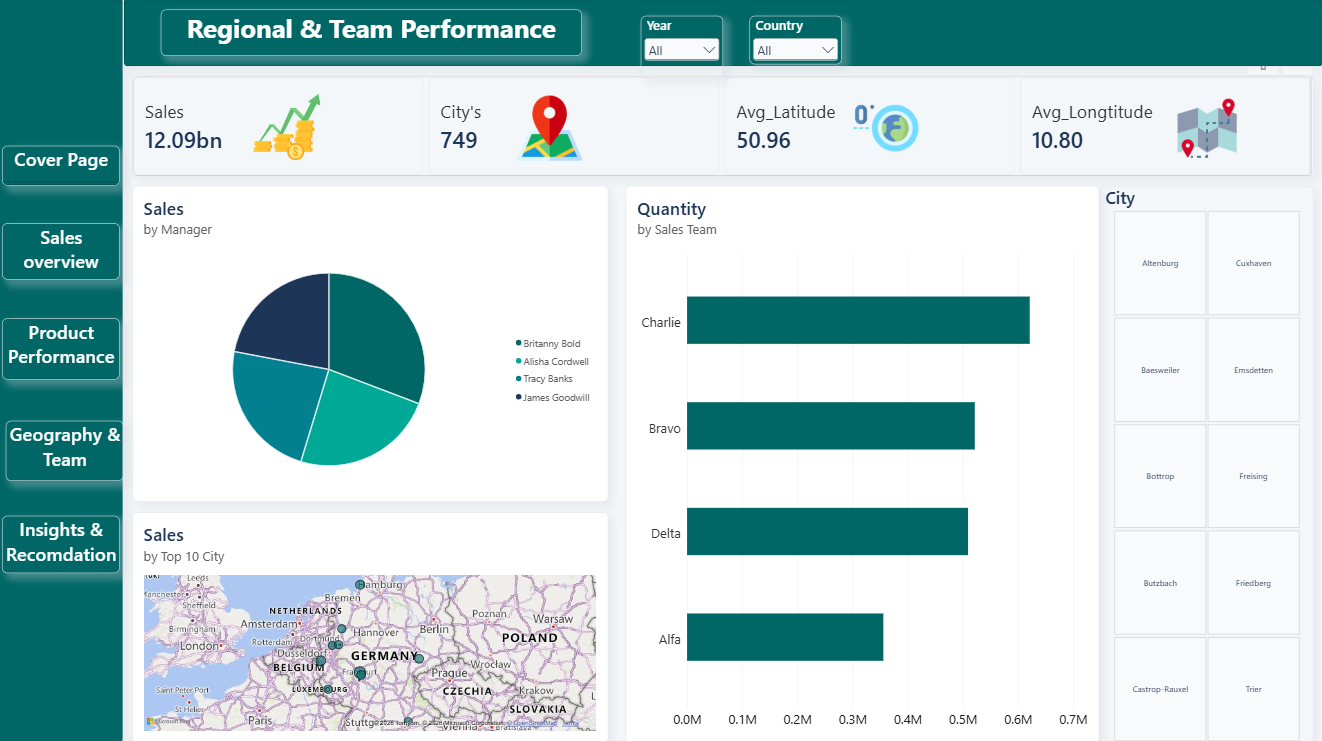

The dashboard page shown, as its layout file describes it:
{"tool":"powerbi","page":{"name":"Geography & Team","canvas":[1920,1080],"ordinal":3},"visuals":[{"type":"cardVisual","fields":{"Data":["pharma-data.total_sales","pharma-data.cityy","pharma-data.avg_latitude","pharma-data.avg_longtitude"]},"box":[195.4,114,1710.1,146.6],"z":0},{"type":"pieChart","fields":{"Category":["pharma-data.Manager"],"Y":["pharma-data.total_sales"]},"box":[195.4,273.3,689.5,457.8],"z":1000},{"type":"map","title":"Sales ","fields":{"Category":["pharma-data.City"],"Size":["Sum(pharma-data.Sales)"]},"box":[195.4,745.6,689.5,334.8],"z":2000},{"type":"shape","box":[0,0,183.2,1080.6],"z":3000},{"type":"clusteredBarChart","fields":{"Category":["pharma-data.Sales Team"],"Y":["pharma-data.total_quantity"]},"box":[910.3,273.3,685.9,807.1],"z":4000},{"type":"shape","box":[182.7,0,1737.3,101.3],"z":5000},{"type":"slicer","fields":{"Values":["pharma-data.Year"]},"box":[932,27.1,119.4,90.5],"z":6000},{"type":"slicer","fields":{"Values":["pharma-data.Country"]},"box":[1089.4,27.1,133.9,70.6],"z":7000},{"type":"textbox","box":[237.1,18.1,609.9,67],"z":8000},{"type":"slicer","fields":{"Values":["pharma-data.City"]},"box":[1596.1,273.3,309.5,807.1],"z":9000},{"type":"image","box":[367.4,133.9,105,108.6],"z":10000},{"type":"image","box":[752.8,133.9,94.1,112.2],"z":11000},{"type":"image","box":[1239.6,133.9,94.1,112.2],"z":12000},{"type":"image","box":[1704.7,133.9,94.1,112.2],"z":13000},{"type":"shape","title":"Cover Page","box":[7.2,215.3,170.1,57.9],"z":14000},{"type":"shape","title":"Sales overview","box":[7.2,327.5,170.1,81.4],"z":15000},{"type":"shape","title":"Product Performance","box":[7.2,465.1,170.1,88.7],"z":16000},{"type":"shape","title":"Geography & Team","box":[12.7,613.5,170.1,86.9],"z":17000},{"type":"shape","title":"Insights & Recomdation","box":[7.2,751,170.1,83.2],"z":18000}]}

Visuals, with their boxes on the page's 1920x1080 design canvas (x1, y1, x2, y2). These are canvas units, not pixel positions in the 1322x741 screenshot, which may show the page scaled, cropped or inside an application window:
cardVisual - pharma-data.total_sales x pharma-data.cityy: {"x1": 195, "y1": 114, "x2": 1906, "y2": 261}
pieChart - pharma-data.Manager x pharma-data.total_sales: {"x1": 195, "y1": 273, "x2": 885, "y2": 731}
"Sales " map: {"x1": 195, "y1": 746, "x2": 885, "y2": 1080}
shape: {"x1": 0, "y1": 0, "x2": 183, "y2": 1081}
clusteredBarChart - pharma-data.Sales Team x pharma-data.total_quantity: {"x1": 910, "y1": 273, "x2": 1596, "y2": 1080}
shape: {"x1": 183, "y1": 0, "x2": 1920, "y2": 101}
slicer - pharma-data.Year: {"x1": 932, "y1": 27, "x2": 1051, "y2": 118}
slicer - pharma-data.Country: {"x1": 1089, "y1": 27, "x2": 1223, "y2": 98}
textbox: {"x1": 237, "y1": 18, "x2": 847, "y2": 85}
slicer - pharma-data.City: {"x1": 1596, "y1": 273, "x2": 1906, "y2": 1080}
image: {"x1": 367, "y1": 134, "x2": 472, "y2": 242}
image: {"x1": 753, "y1": 134, "x2": 847, "y2": 246}
image: {"x1": 1240, "y1": 134, "x2": 1334, "y2": 246}
image: {"x1": 1705, "y1": 134, "x2": 1799, "y2": 246}
"Cover Page" shape: {"x1": 7, "y1": 215, "x2": 177, "y2": 273}
"Sales overview" shape: {"x1": 7, "y1": 328, "x2": 177, "y2": 409}
"Product Performance" shape: {"x1": 7, "y1": 465, "x2": 177, "y2": 554}
"Geography & Team" shape: {"x1": 13, "y1": 614, "x2": 183, "y2": 700}
"Insights & Recomdation" shape: {"x1": 7, "y1": 751, "x2": 177, "y2": 834}
